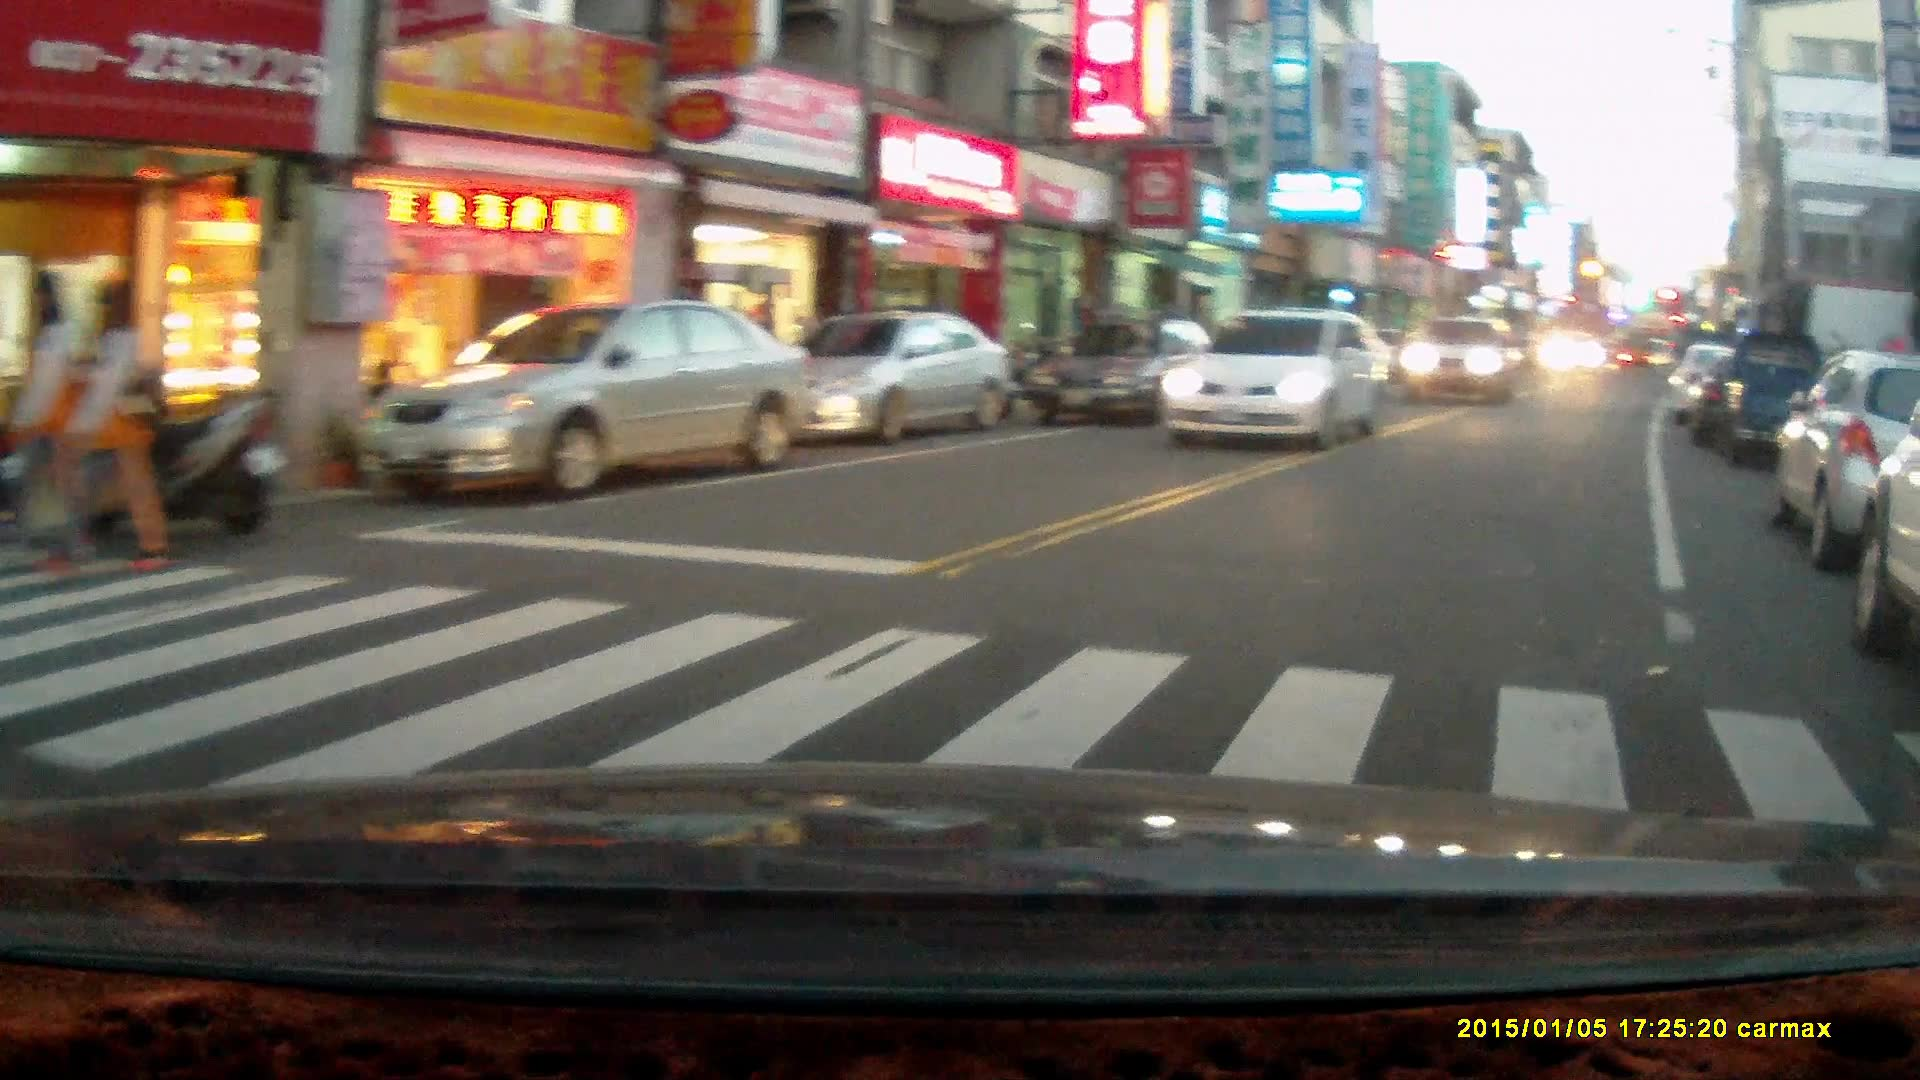pedestrian: (39, 277, 178, 583), (0, 265, 105, 573)
vehicle: (356, 294, 820, 503), (1158, 302, 1392, 451), (744, 308, 1014, 437), (1773, 337, 1920, 561), (1032, 318, 1228, 433), (1699, 327, 1850, 473), (1389, 312, 1525, 402), (1537, 325, 1603, 377)
